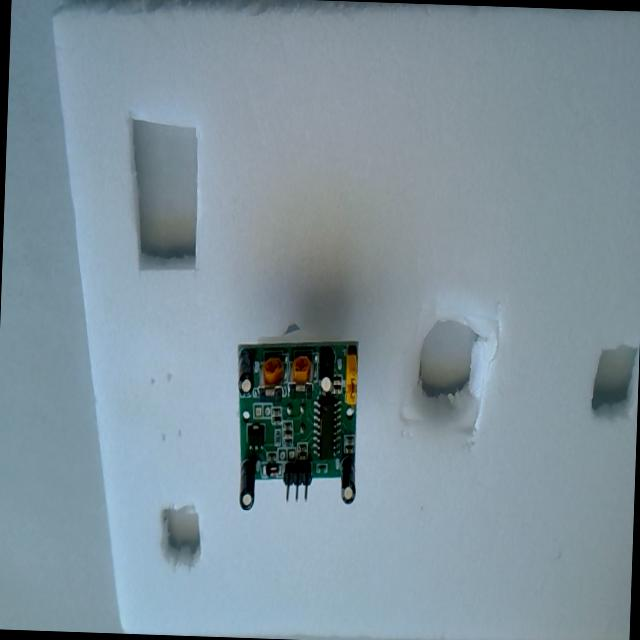Electrolytic capacitor: (238, 457, 255, 511), (339, 454, 356, 504), (236, 349, 254, 395), (318, 346, 335, 393)
IC: (313, 397, 341, 459)
pinheader: (283, 461, 312, 504)
